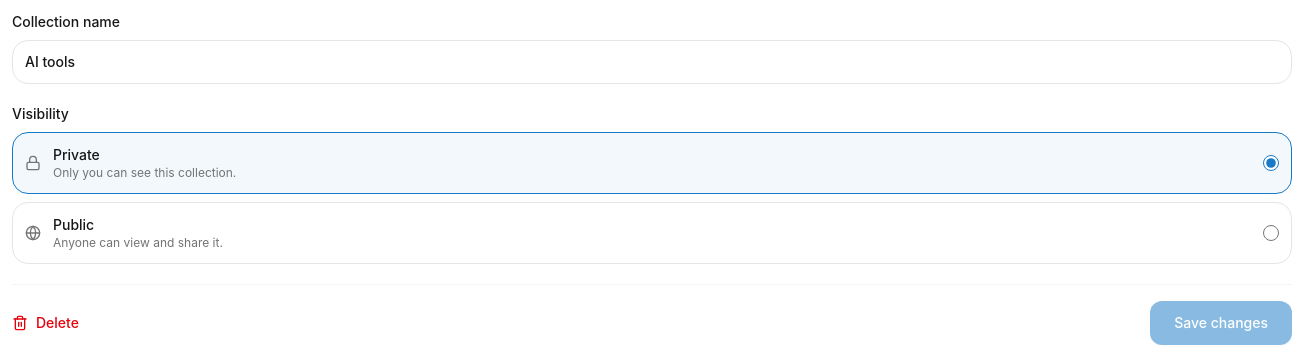
Test: requires delete confirmation, reports failure and leaves the collection intact
Click the button "Delete" at [45, 323], box [12,301,79,345]
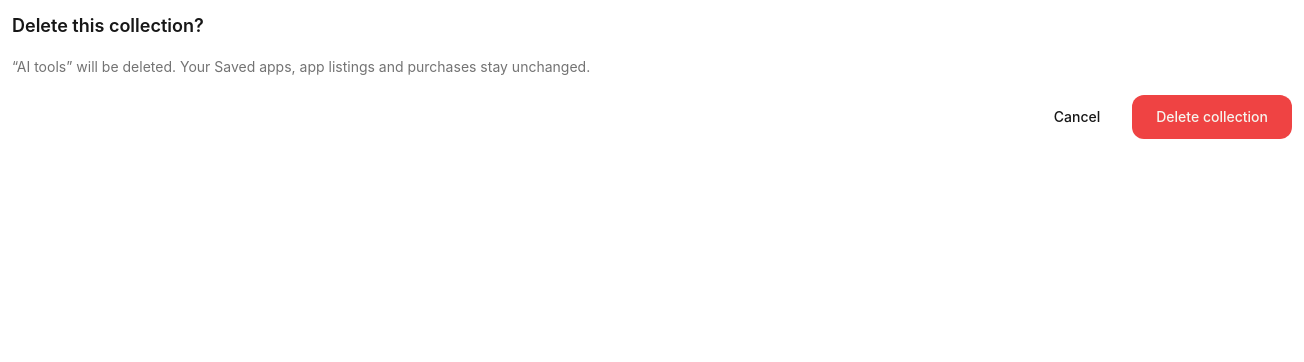
Click the button "Delete collection" at [1212, 117], box [1132,95,1292,139]
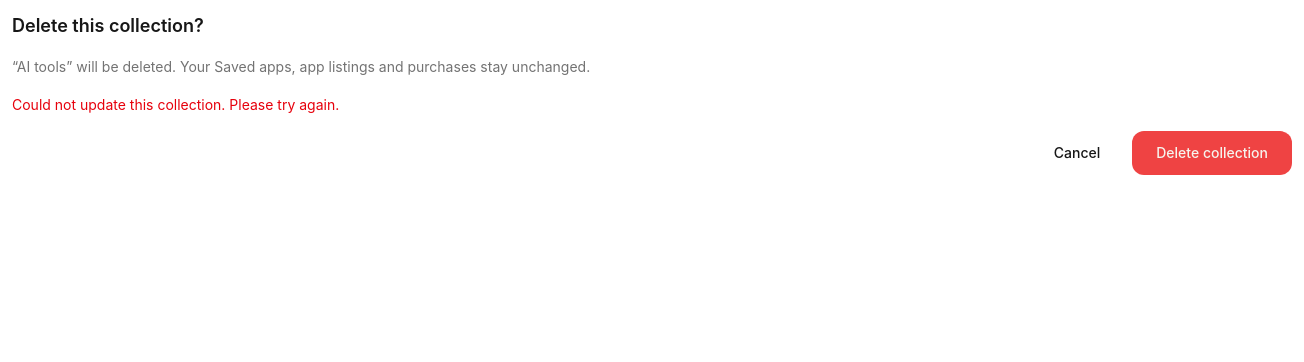
Now the button "Delete collection" is enabled, box [1132,131,1292,175]
Now the message "Could not update this collection. Please try again." is shown, box [12,96,339,113]
